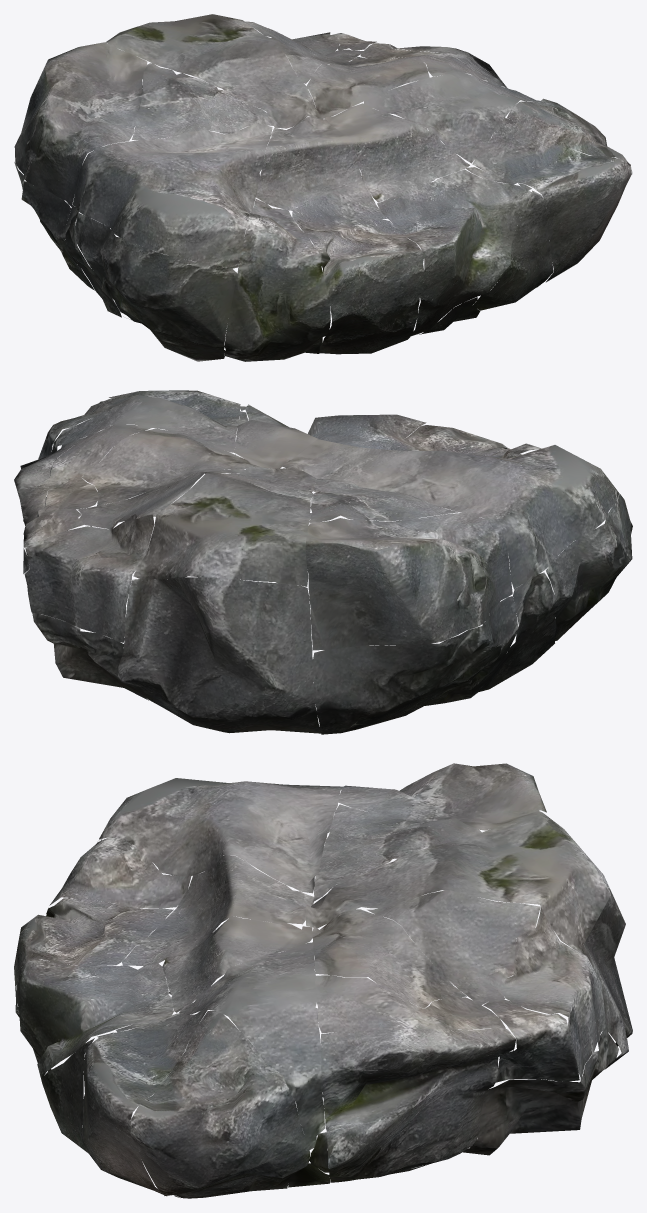
Rendered from rock-a.glb.
3 views of the same model, one above another, from view 1: azimuth 30°, elevation 25°; view 2: azimuth 150°, elevation 25°; view 3: azimuth 270°, elevation 25° (orthographic). The views are drawn at different scales.
Visible parts, largest first — view 1: Supplied rock-a; view 2: Supplied rock-a; view 3: Supplied rock-a.
Boxes of the visible parts, x1,y1,x2,y2 form: Supplied rock-a: [14, 14, 632, 361]; Supplied rock-a: [14, 390, 632, 734]; Supplied rock-a: [14, 763, 632, 1198].
Bounding box in the file's own units: 1 × 0.3508 × 0.8754.
Materials: 1 (1 with a texture image).
